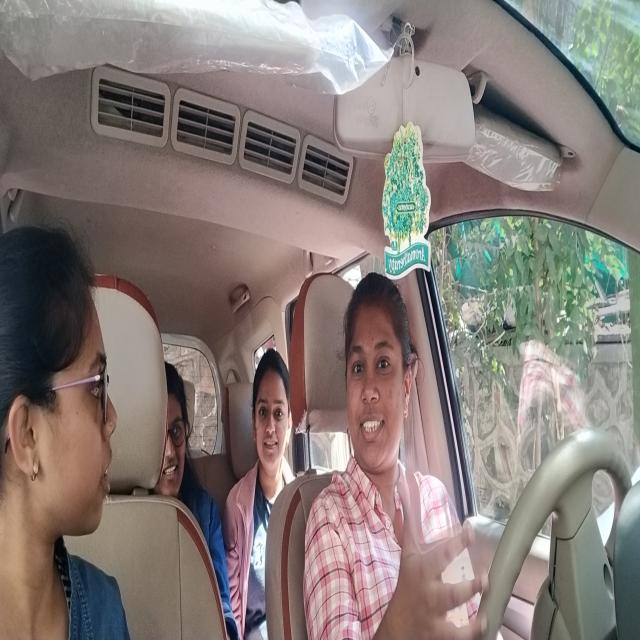LeftRight: (340, 270, 418, 488)
person: (1, 214, 121, 543), (248, 331, 298, 494), (164, 350, 196, 495)
talking: (356, 406, 389, 456)
